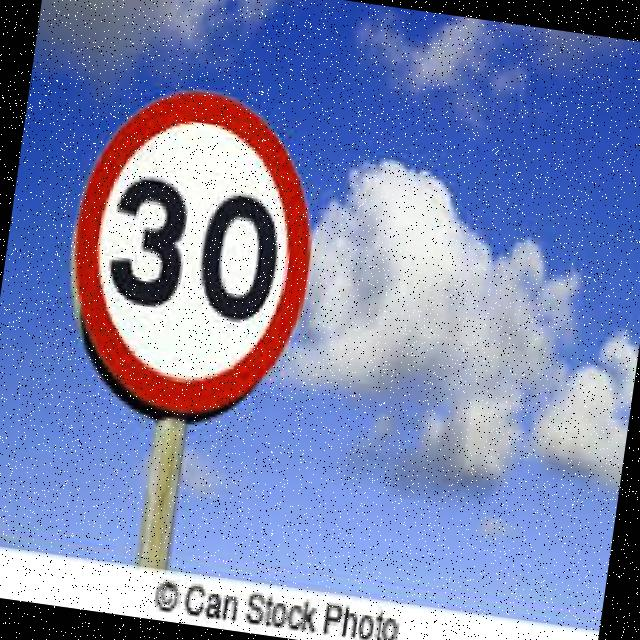Ograniczenie predkosci do 30: (52, 74, 332, 432)
